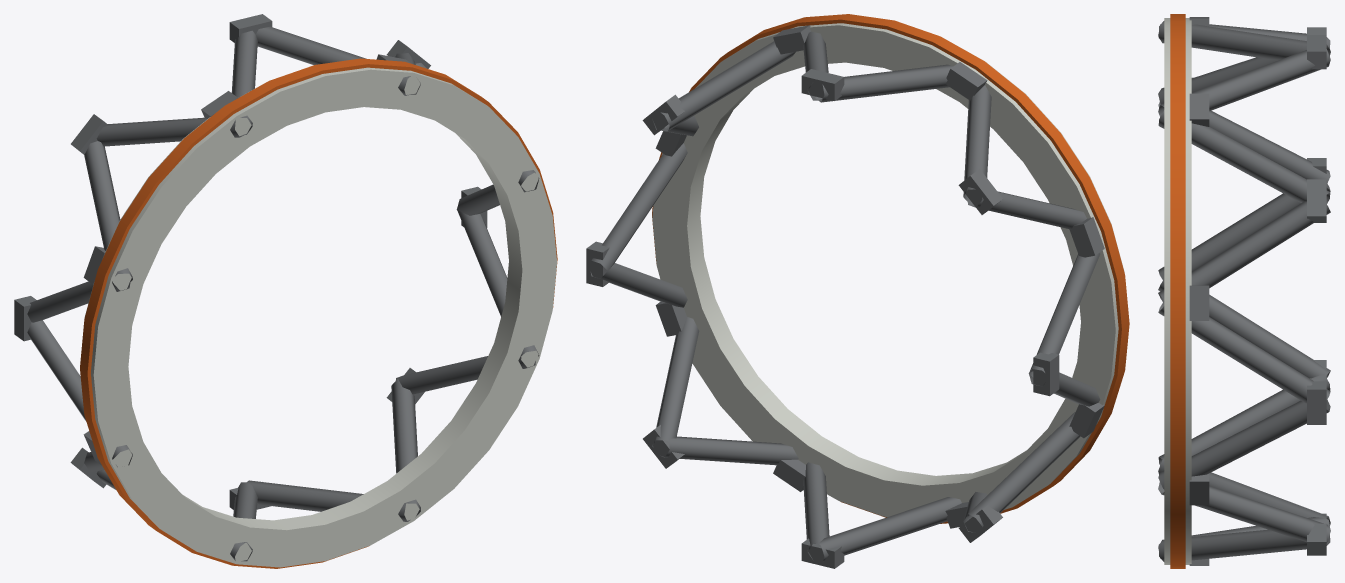
The model's file is u33_interstage.obj.
3 views of the same model, side by side, from view 1: azimuth 30°, elevation 25°; view 2: azimuth 150°, elevation 25°; view 3: azimuth 270°, elevation 25° (orthographic). The views are drawn at different scales.
Visible parts, largest first — view 1: u33_interstage; view 2: u33_interstage; view 3: u33_interstage.
Part boxes in pixels (x1,y1,x2,y2): u33_interstage: (14, 14, 557, 568); u33_interstage: (586, 14, 1129, 568); u33_interstage: (1158, 14, 1330, 568).
Bounding box in the file's own units: 2.84 × 2.84 × 0.884.
